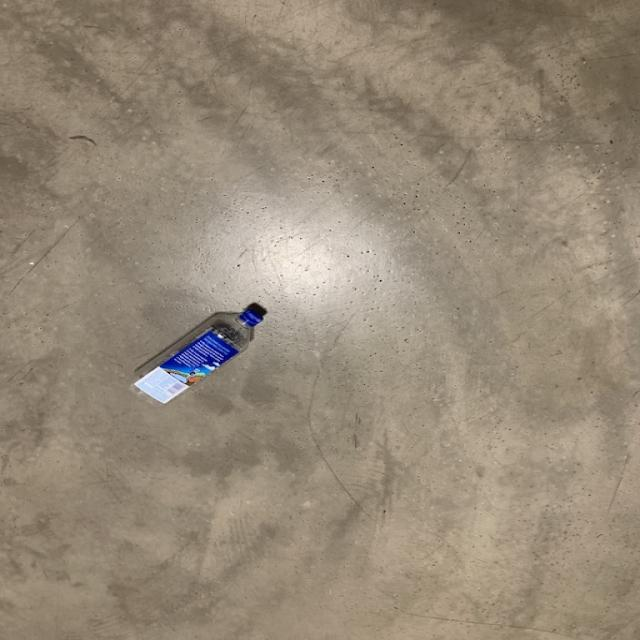Waste: (132, 304, 268, 404)
